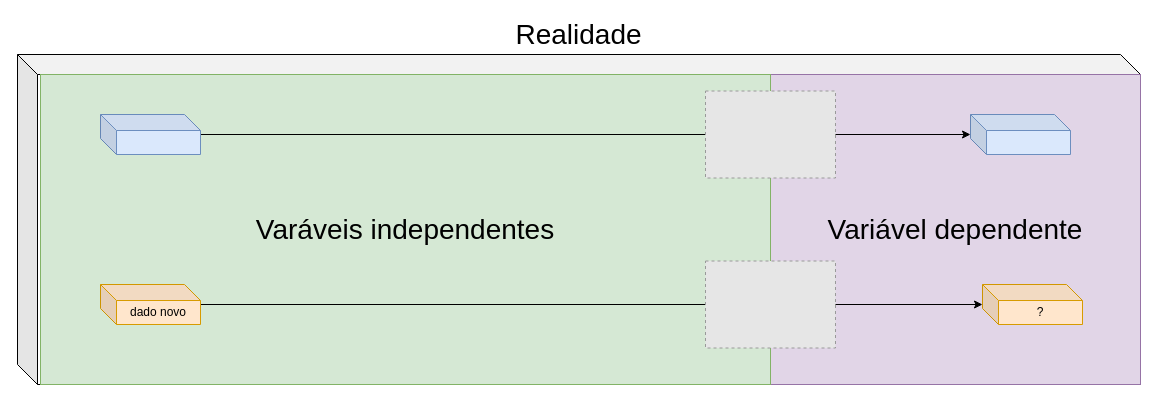
Image size: 1158x402. Some labels were removed from this diagram. Grey dashed boxes stand in for pictures. Here are the shapes that lost their labels. From the top down, the box of each, then its label:
(100, 114, 200, 154): amostra
(970, 114, 1070, 154): resposta
